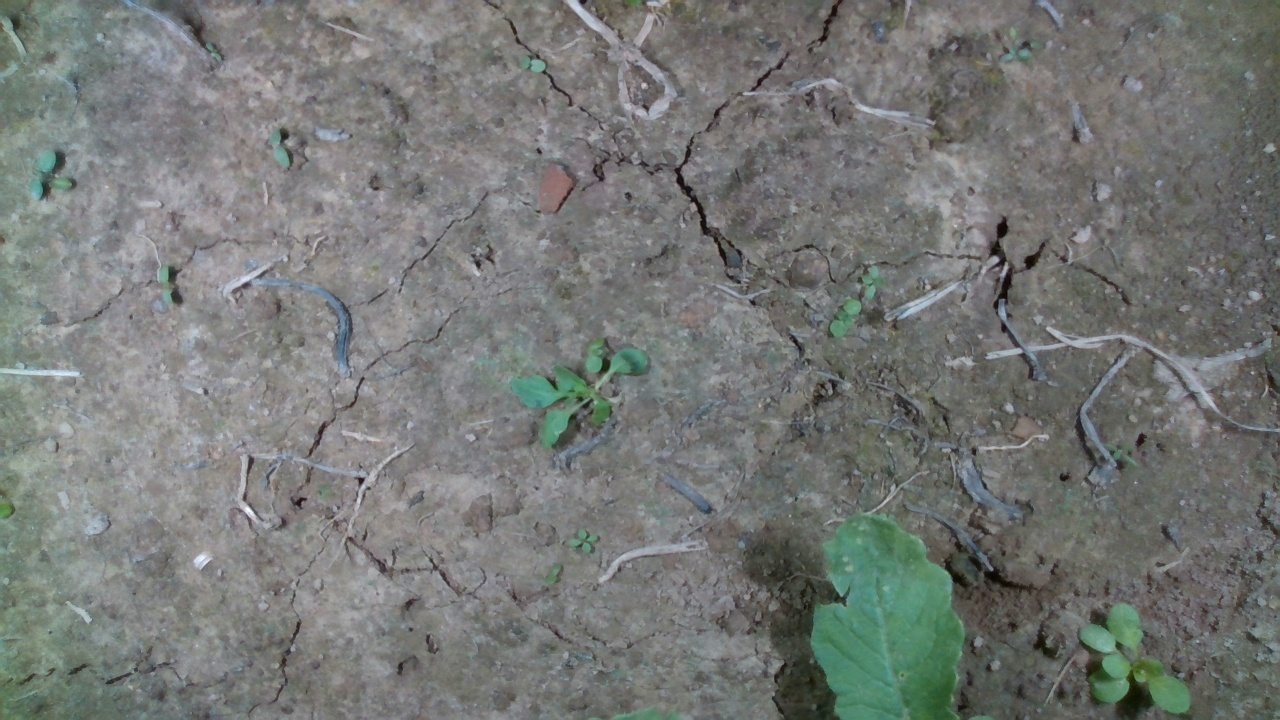weed: (857, 261, 881, 299)
